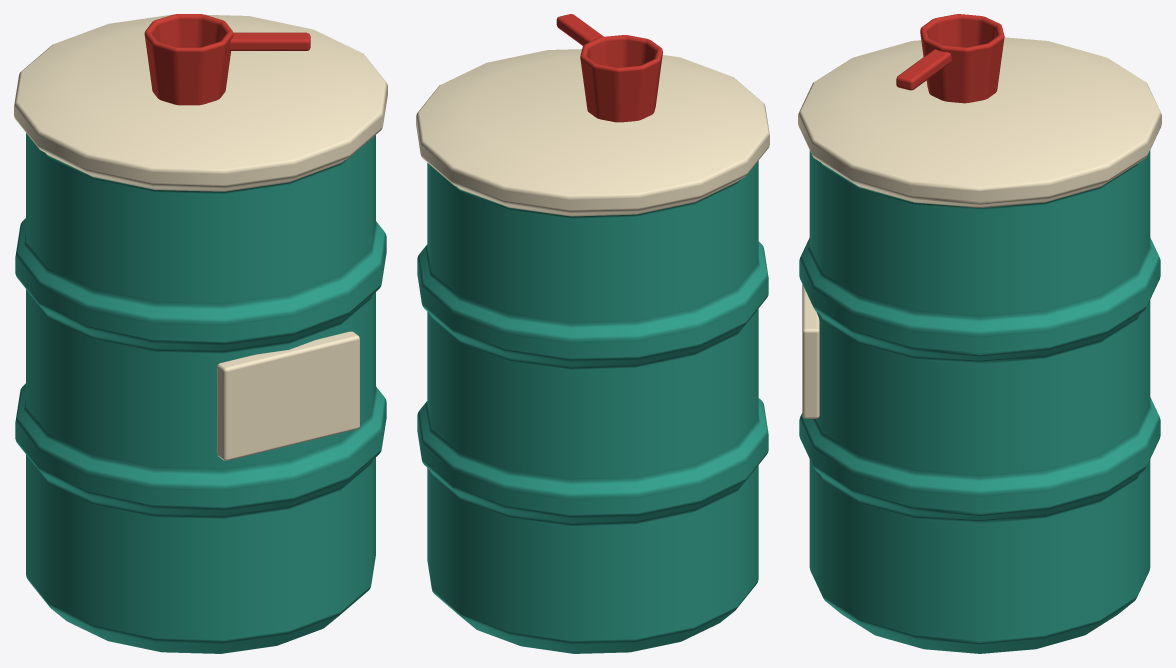
The model's file is prop_water_drum.glb.
3 views of the same model, side by side, from view 1: azimuth 30°, elevation 25°; view 2: azimuth 150°, elevation 25°; view 3: azimuth 270°, elevation 25° (orthographic). The views are drawn at different scales.
Parts seen in each view (by area): view 1: prop_water_drum; view 2: prop_water_drum; view 3: prop_water_drum.
Part boxes in pixels (x1,y1,x2,y2): prop_water_drum: (14,14,387,653); prop_water_drum: (416,14,769,653); prop_water_drum: (798,14,1161,653).
Bounding box in the file's own units: 0.62 × 1.04 × 0.62.
